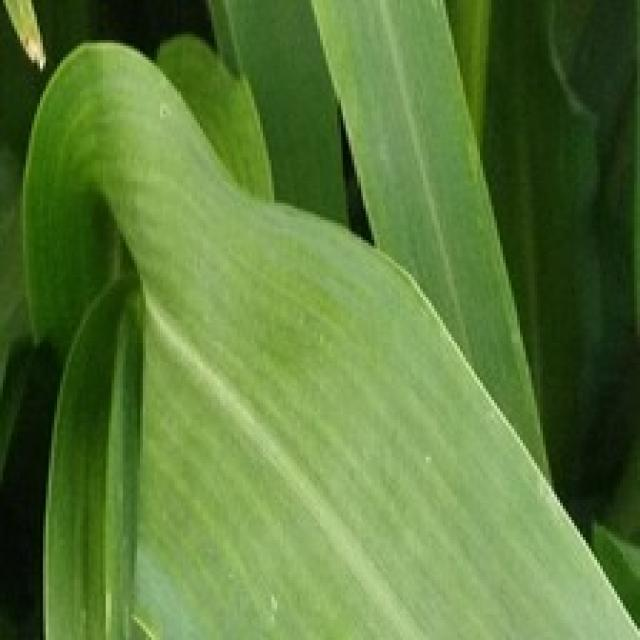Corn: (0, 0, 637, 637), (294, 0, 552, 486)
